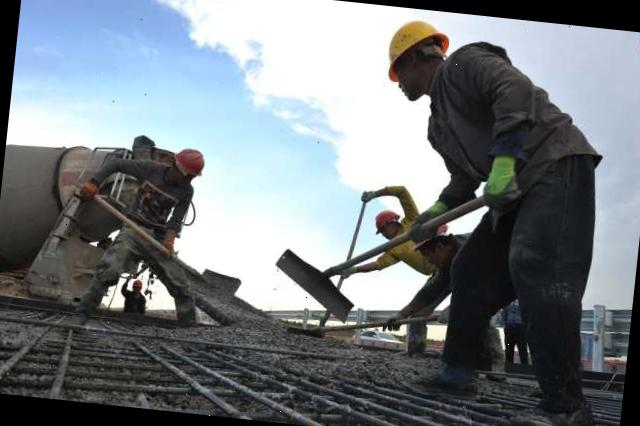helmet: (384, 15, 453, 88), (173, 146, 208, 177), (371, 208, 402, 237)
no_wear: (133, 174, 192, 239)
